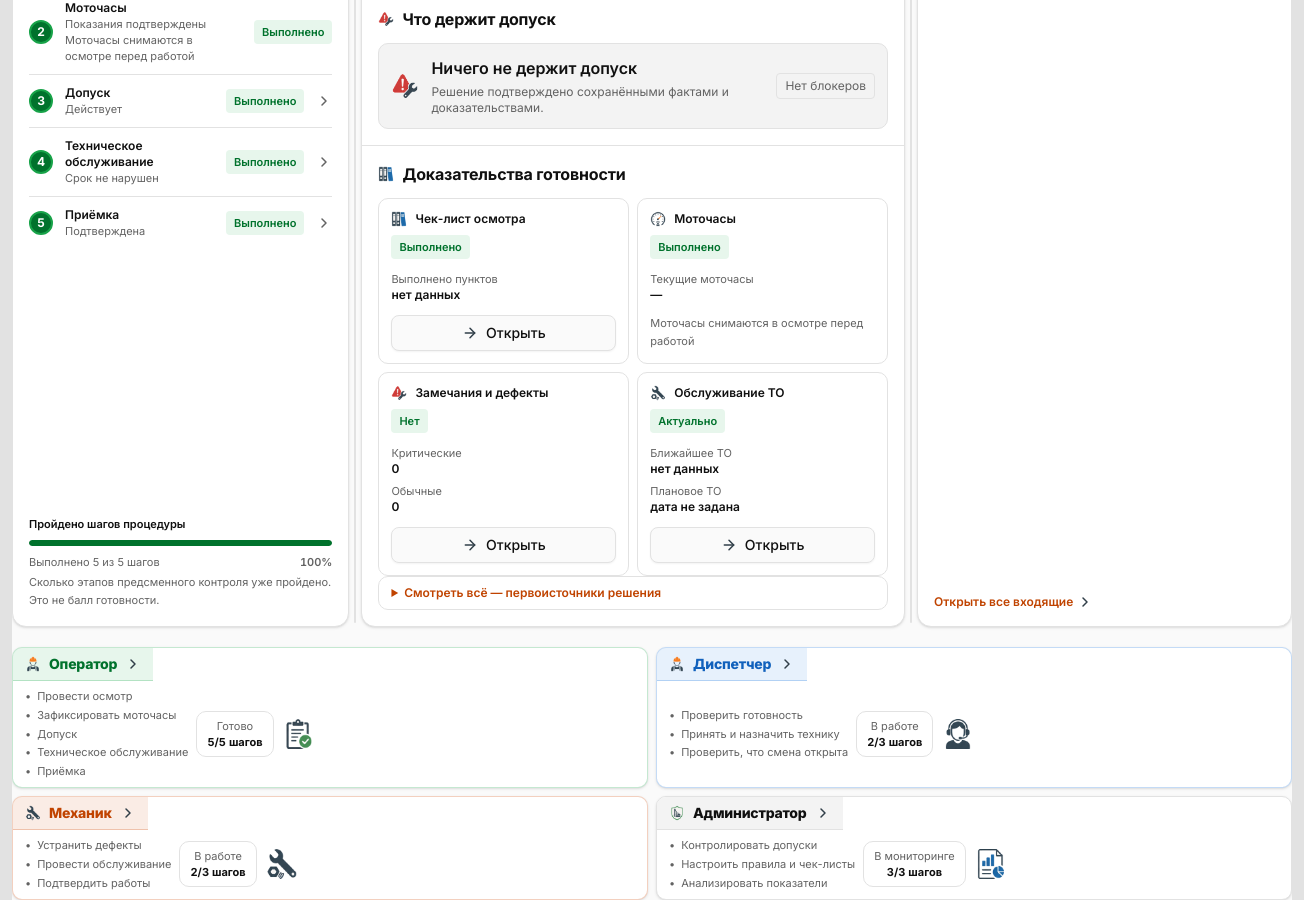
it: Диспетчер: третий шаг считается по открытой смене (W71) › смены нет — третий шаг не выполнен, диспетчер не «3 из 3»
The width and height of the screenshot is (1304, 900).
(page scrolled)
Expected: the 1st text "2/3 шагов" is shown, [867,734,922,750]
What coordinates should you click on to do the following:
click the button with aria-label "Диспетчер: что делать сейчас"
I would click on:
 (974, 718)
Its box is [657,648,1291,787].
(page scrolled)
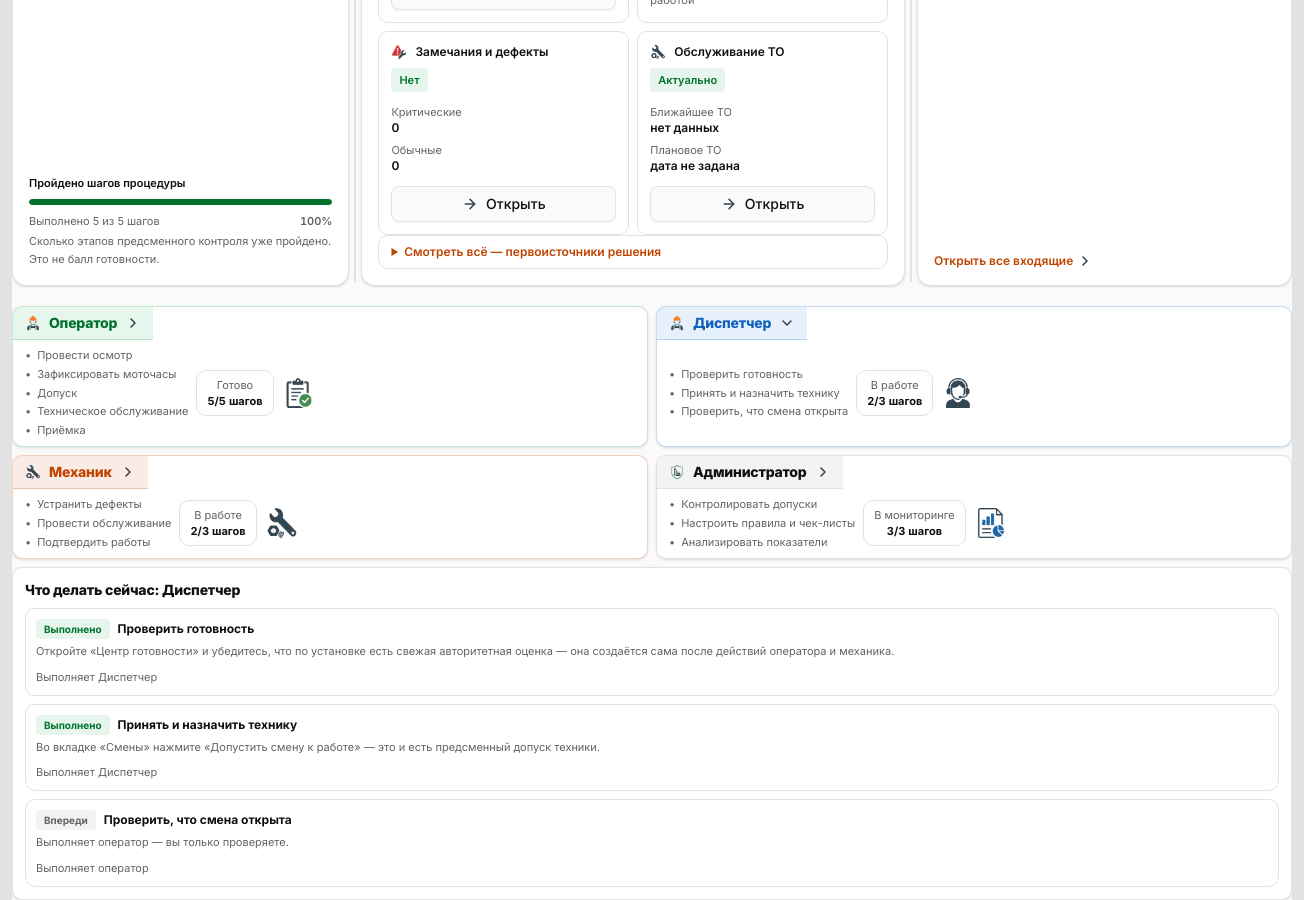
Now the text "Выполняет оператор" is shown, box [36,861,149,875]
